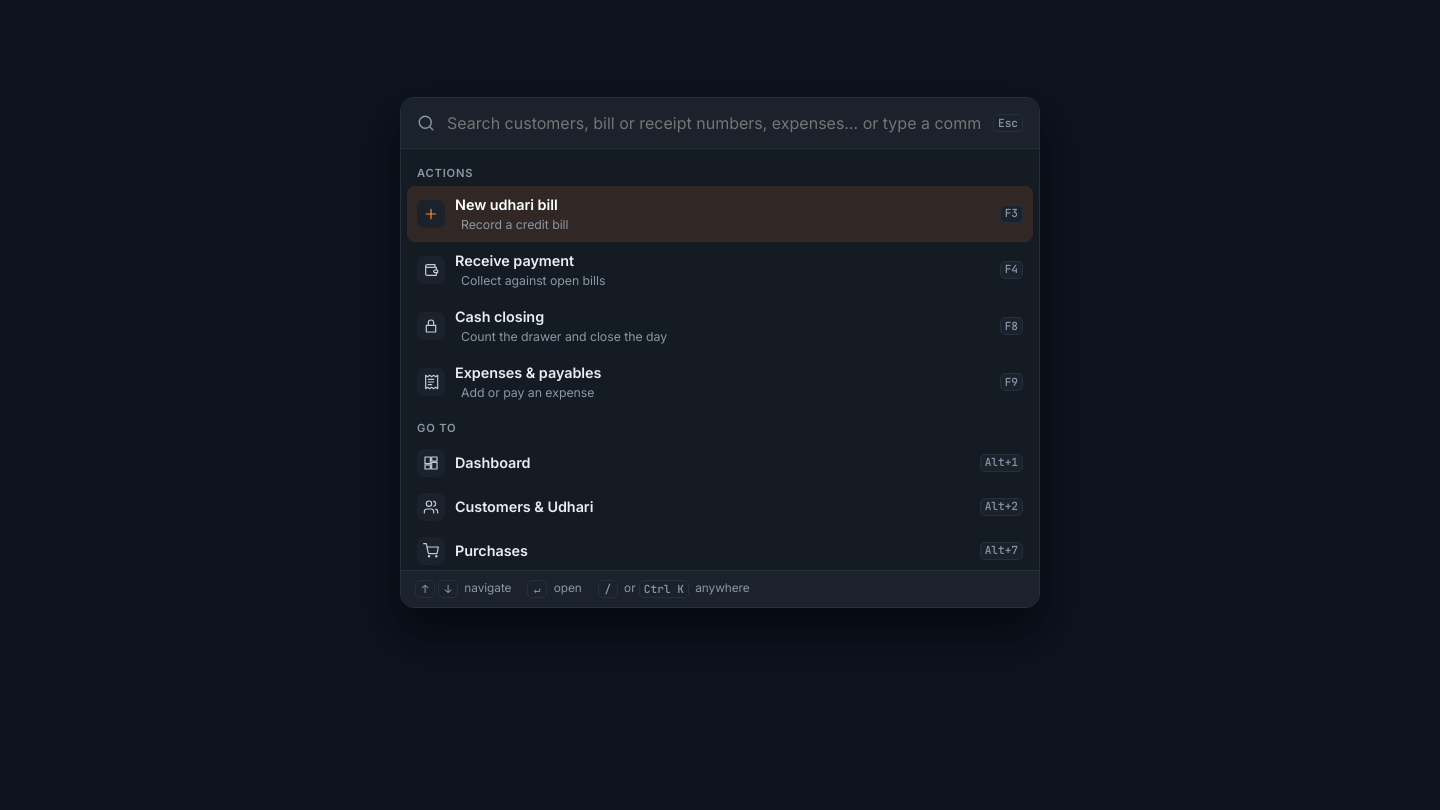
POS Keyboard enhancements › shows server search results grouped by type
Replace the text in the field labelled "Search" with "GX" at (714, 123), box [445,110,983,136]
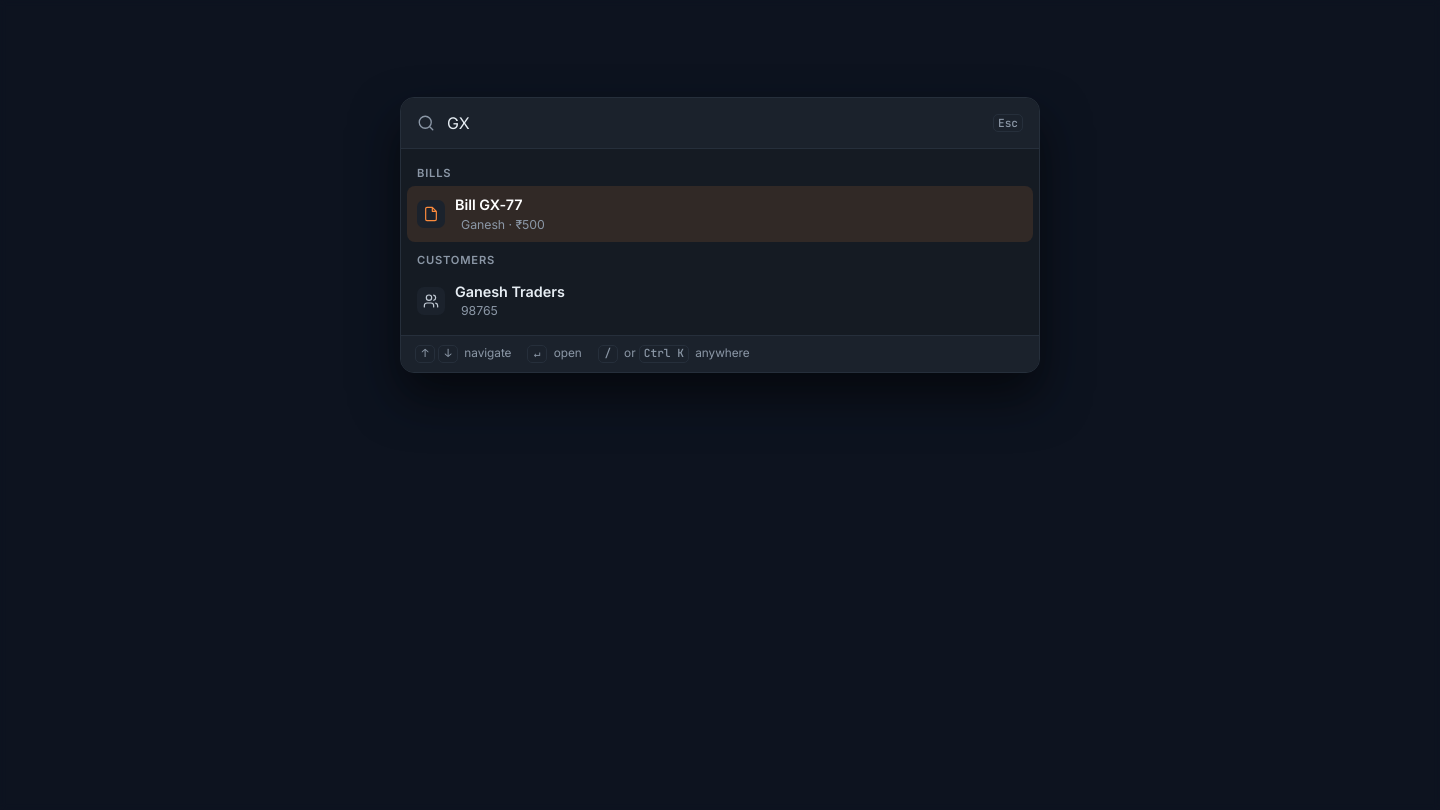
expect the text "Bill GX-77" is shown: met, box [455,196,523,213]
expect the text "Bills" is shown: met, box [417,166,451,180]
expect the text "Ganesh Traders" is shown: met, box [455,281,565,302]
